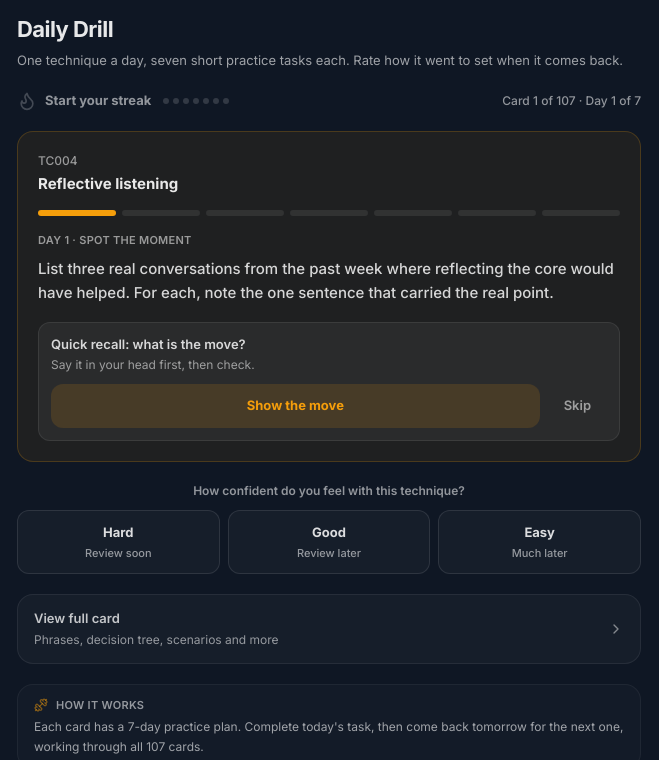
Test case: core accessibility contracts › announces drill completion and exposes a page heading
Expected: the heading "Daily Drill" is shown, [17,16,113,42]
Click the button with aria-label "Hard: review soon": (118, 542) [17,510,220,574]
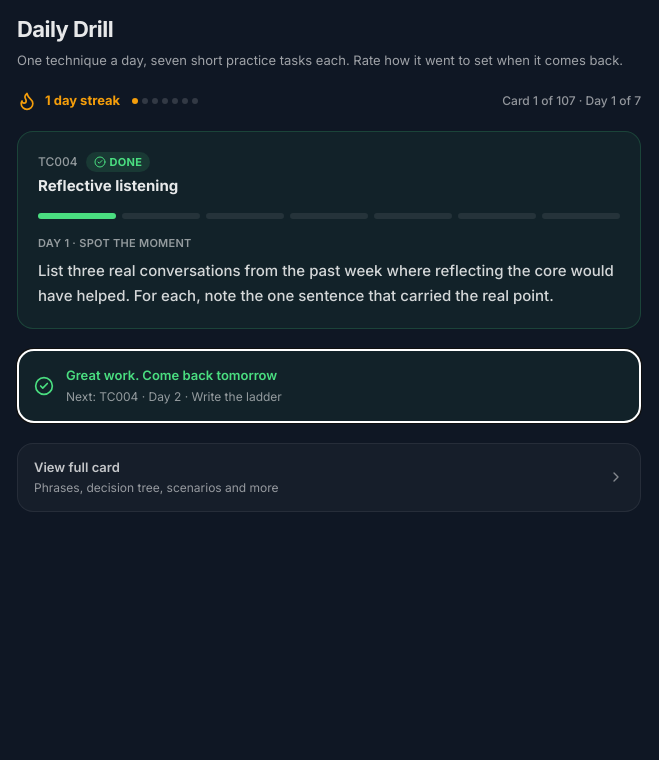
Expected: the message shows "Great work. Come back tomorrow", [66,367,277,383]
